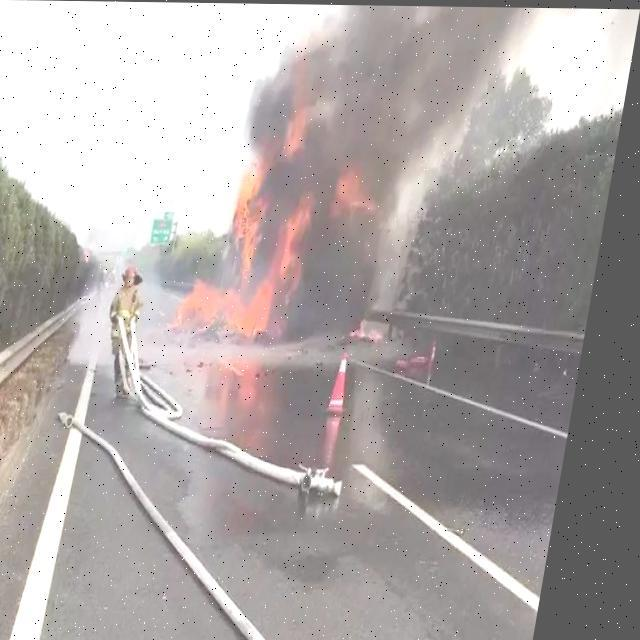Fire: (178, 68, 417, 358)
